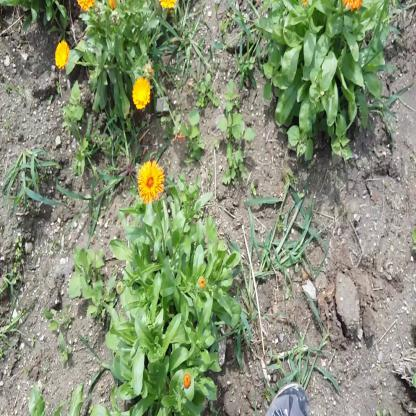marigold: (138, 161, 164, 202), (132, 76, 149, 106), (56, 42, 68, 65)
